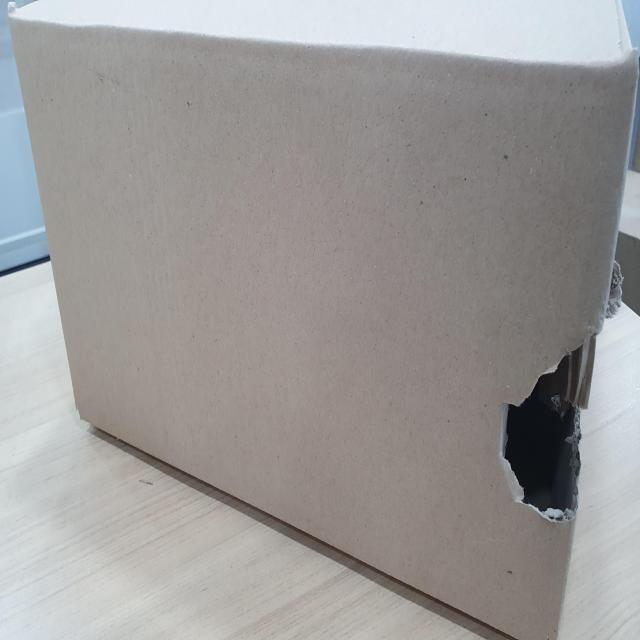damaged: (490, 298, 606, 541)
